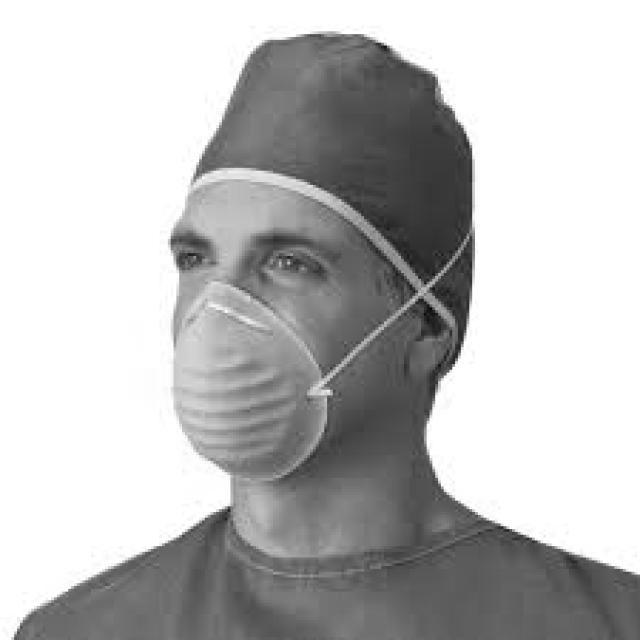fake: (169, 282, 332, 488)
real: (169, 188, 390, 491)
